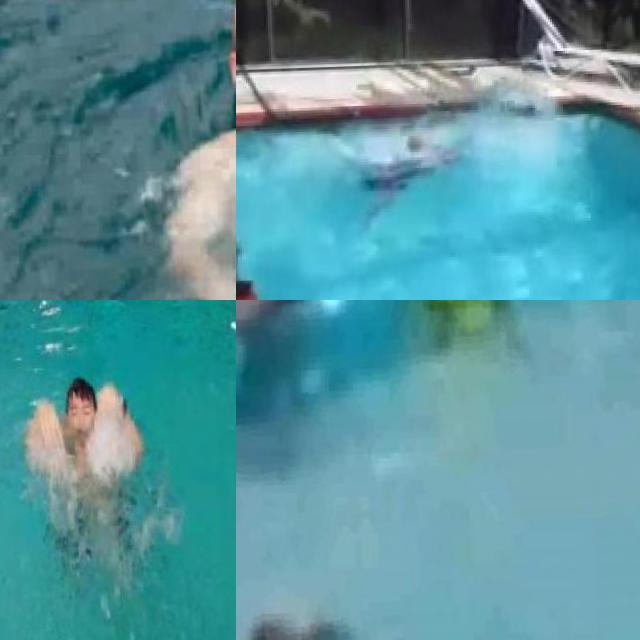drowning: (20, 372, 146, 541), (362, 115, 452, 222), (298, 598, 365, 640)
swimming: (152, 0, 236, 300)
